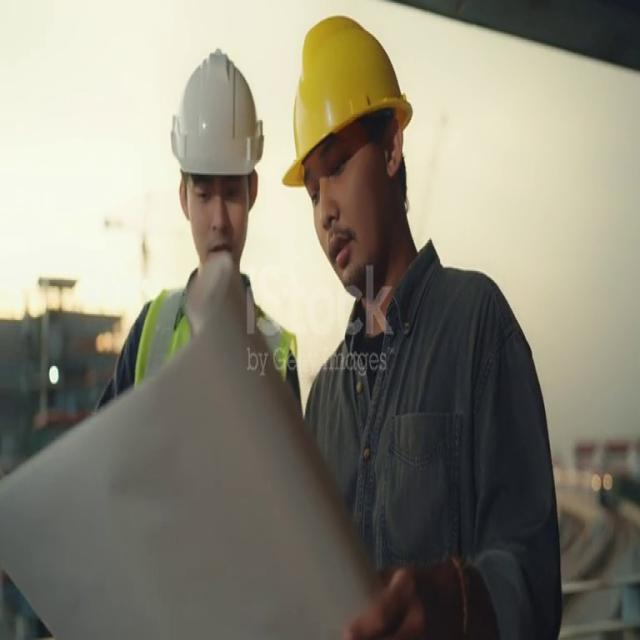capacete: (270, 0, 422, 206), (160, 39, 268, 182)
